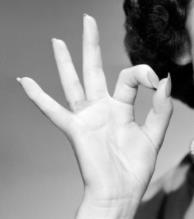left: (15, 12, 170, 189)
